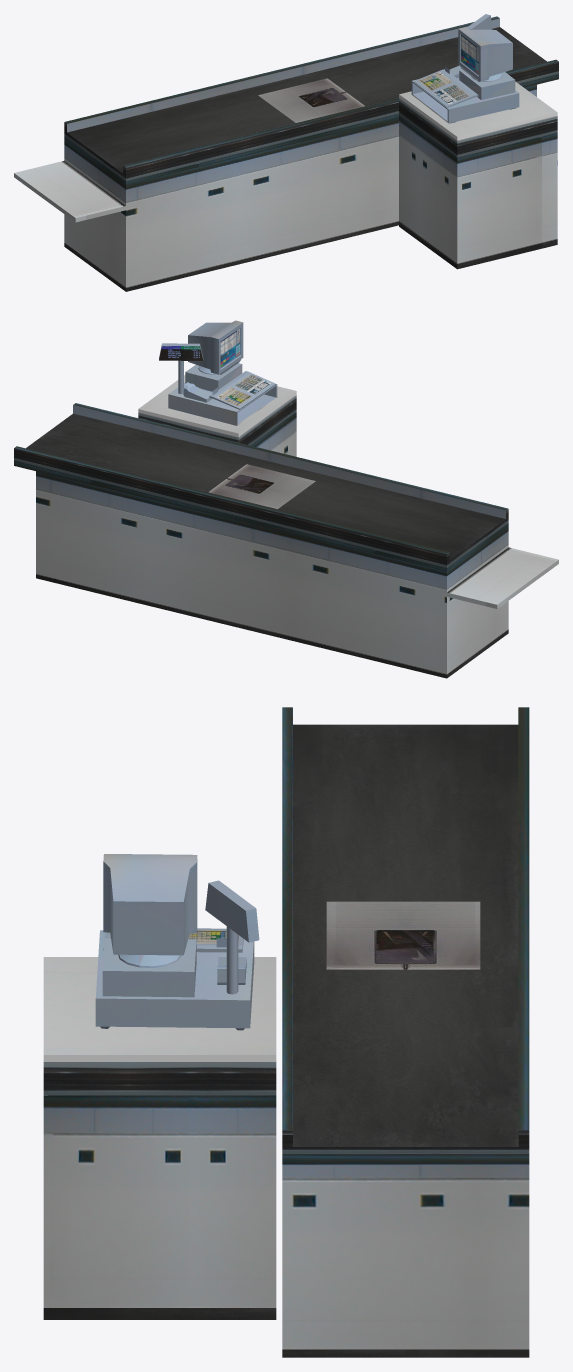
Rendered from SM_Cashier_01.FBX.
3 renders of one model, top to bottom at view 1: azimuth 30°, elevation 25°; view 2: azimuth 150°, elevation 25°; view 3: azimuth 270°, elevation 25°, orthographic. The views are drawn at different scales.
Visible parts, largest first — view 1: SM_Cashier_01; view 2: SM_Cashier_01; view 3: SM_Cashier_01.
Part boxes in pixels (<box>): SM_Cashier_01: <box>14,14,558,291</box>; SM_Cashier_01: <box>14,320,558,678</box>; SM_Cashier_01: <box>43,707,529,1357</box>.
Bounding box in the file's own units: 352 × 141 × 153.
